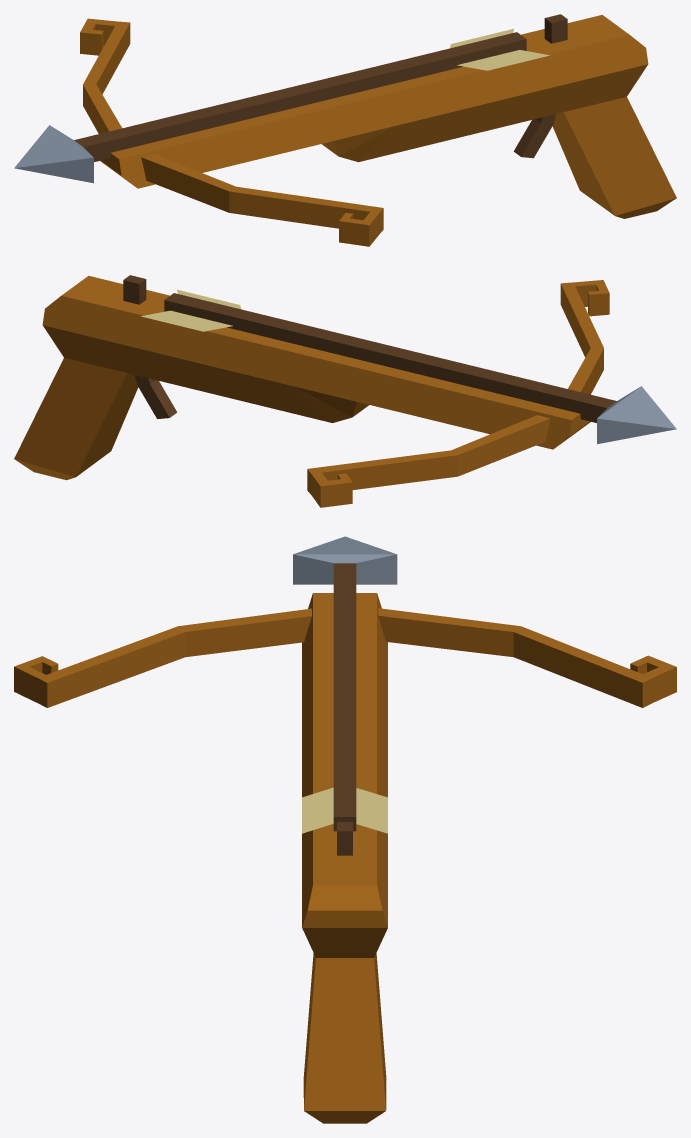
File: kruisboogLosXpV2.fbx
The picture shows the model from 3 angles, top to bottom: view 1: azimuth 30°, elevation 25°; view 2: azimuth 150°, elevation 25°; view 3: azimuth 270°, elevation 25°; orthographic projection. The views are drawn at different scales.
Parts seen in each view (by area): view 1: kruisboog_los, pijl_los; view 2: kruisboog_los, pijl_los; view 3: kruisboog_los, pijl_los.
Boxes of the visible parts, x1,y1,x2,y2 form: kruisboog_los: (80,14,676,246); pijl_los: (14,28,549,183); kruisboog_los: (14,275,609,507); pijl_los: (141,289,676,444); kruisboog_los: (14,593,676,1123); pijl_los: (293,536,397,833).
Size of the model in its own units: 10.2 by 3.14 by 7.73.
